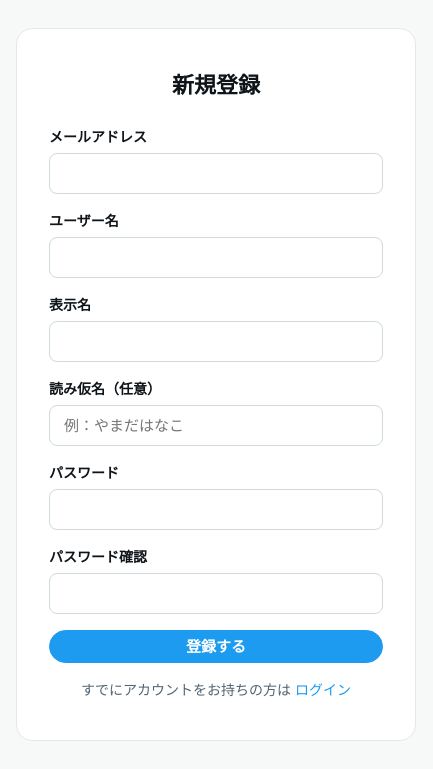
Scenario: RegisterPage › パスワード不一致（無効クラス）→ エラーメッセージが表示され API は呼ばれない
This screenshot has width=433, height=769.
Type "new@example.com" into the field labelled "メールアドレス". click: (216, 173)
box: [49,152,383,194]
Type "newuser" into the field labelled "ユーザー名". click: (216, 257)
box: [49,236,383,278]
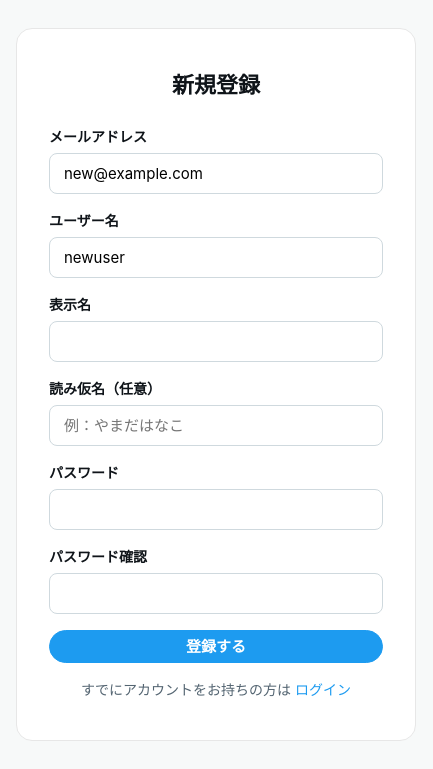
Type "新規太郎" into the field labelled "表示名". click: (216, 341)
box: [49,320,383,362]
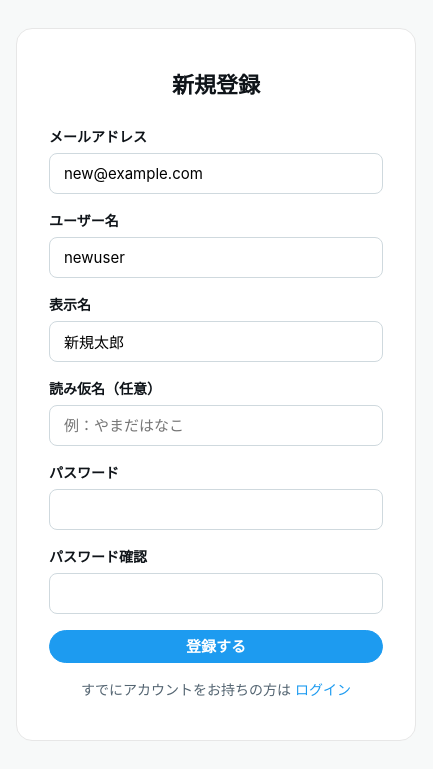
Type "Pass1234" into the password field labelled "パスワード". click: (216, 509)
box: [49,488,383,530]
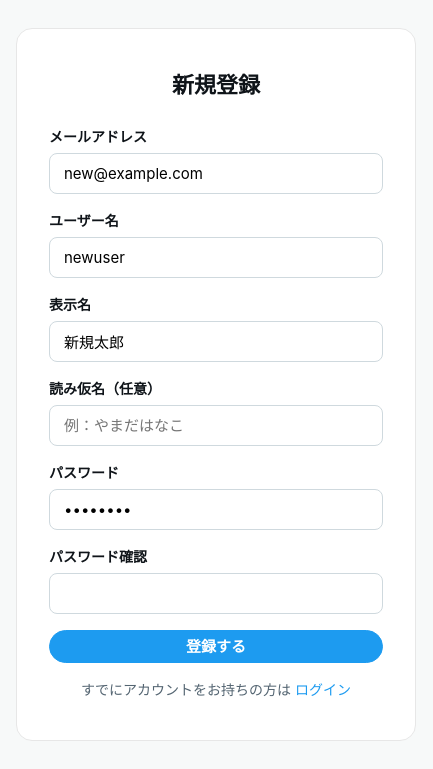
Type "Pass1234" into the password field labelled "パスワード確認". click: (216, 593)
box: [49,572,383,614]
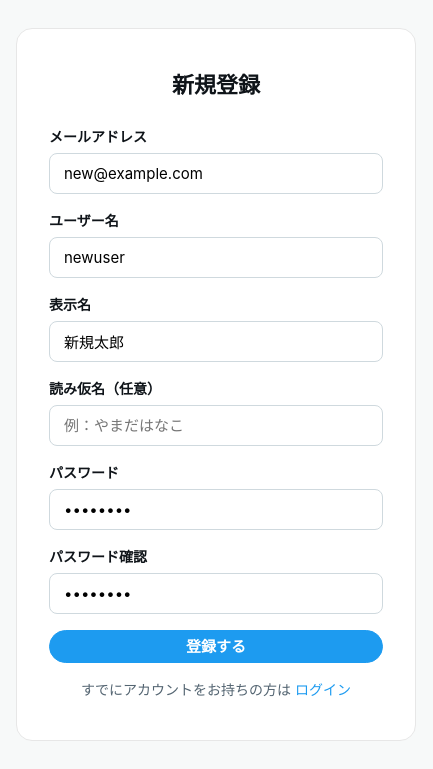
Type "Different1" into the password field labelled "パスワード確認". click: (216, 593)
box: [49,572,383,614]
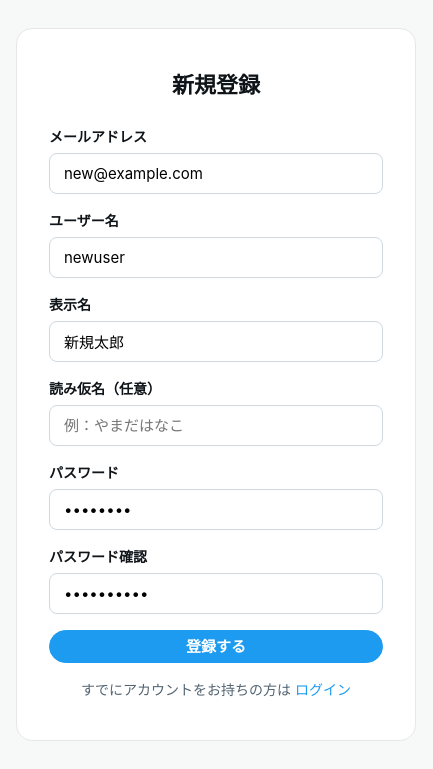
Click the button "登録する". click: (216, 646)
box: [49,630,383,662]
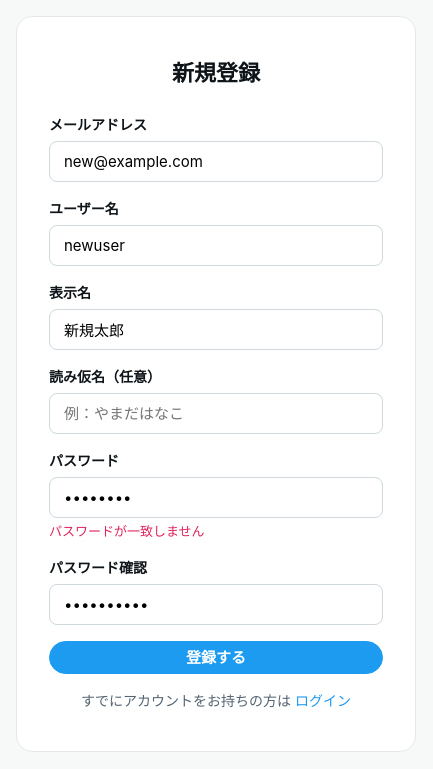
Now the text "パスワードが一致しません" is shown, box [49,523,205,539]
